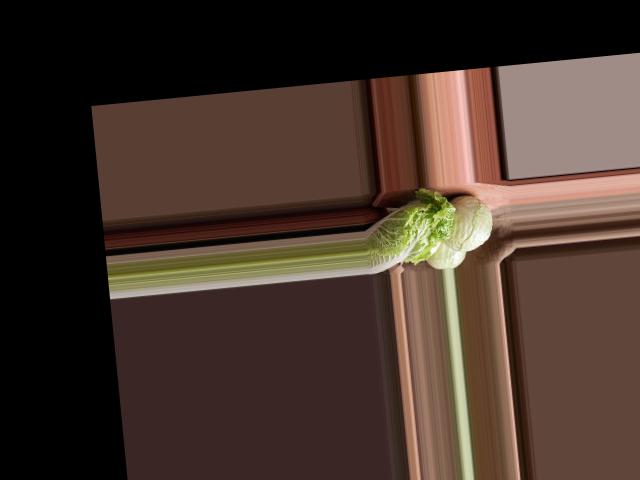lettuce: (362, 183, 460, 271)
